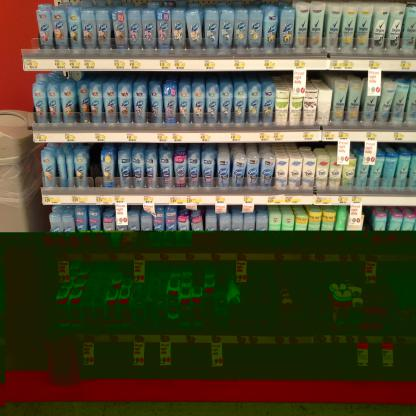Void: (90, 147, 100, 185), (364, 212, 374, 231)
